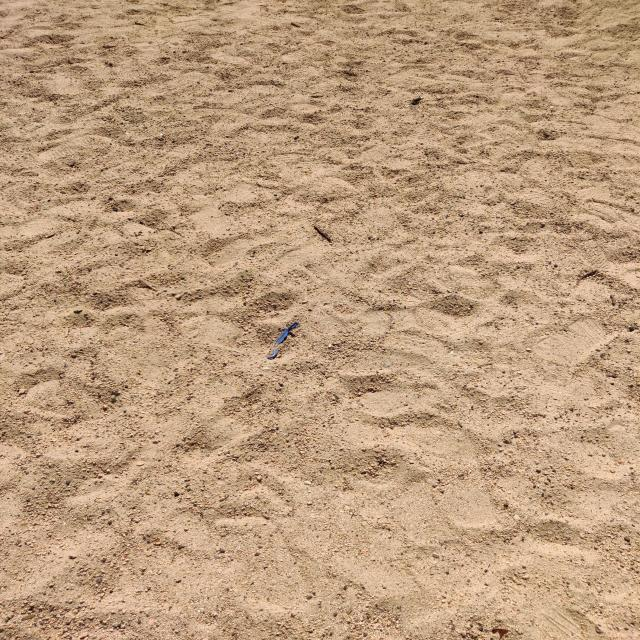litter: (263, 336, 287, 361)
